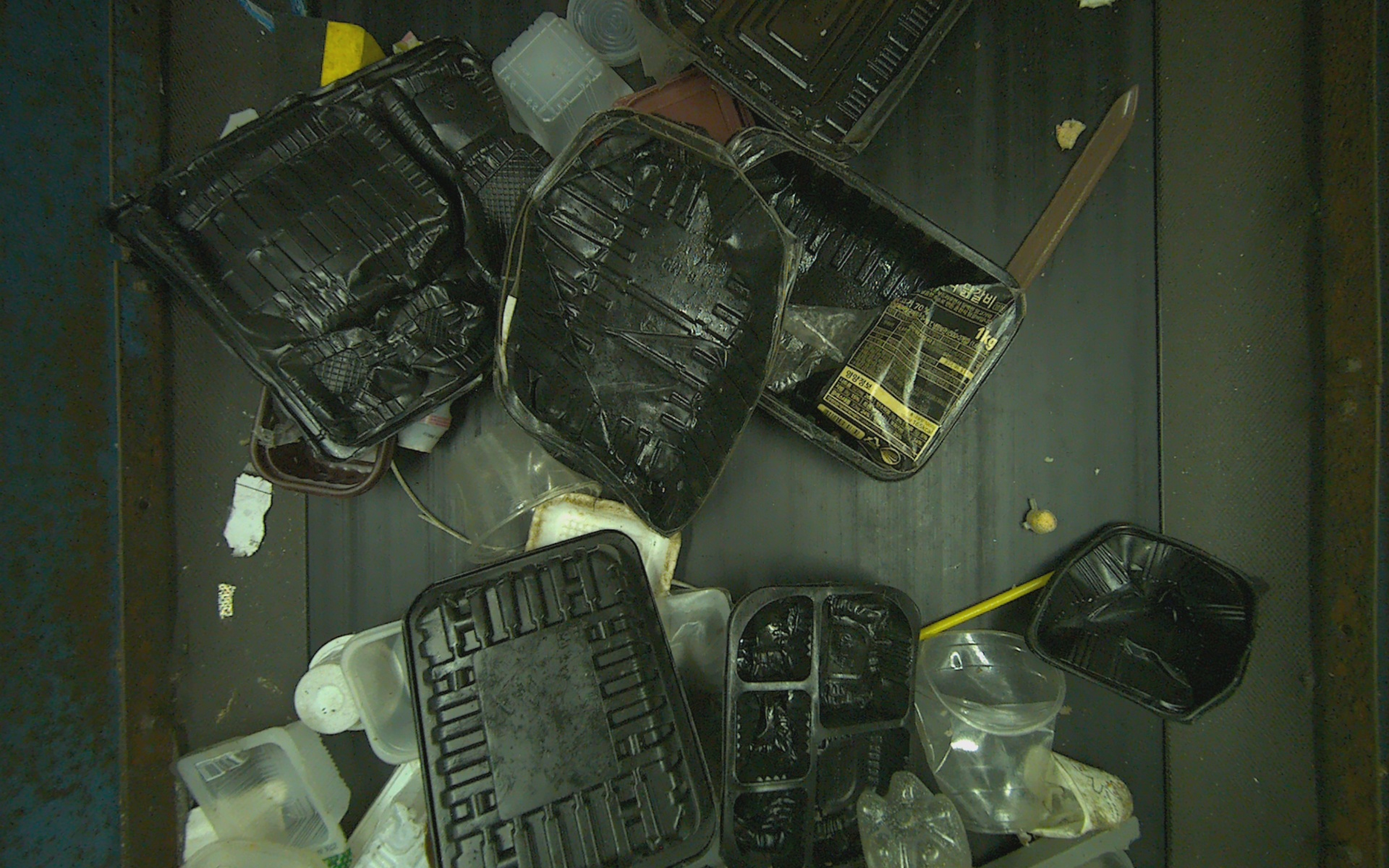PET-C: (914, 630, 1066, 833)
PP-B: (103, 35, 555, 464), (493, 108, 797, 538), (402, 529, 719, 868), (719, 581, 921, 868), (1024, 523, 1272, 725)
